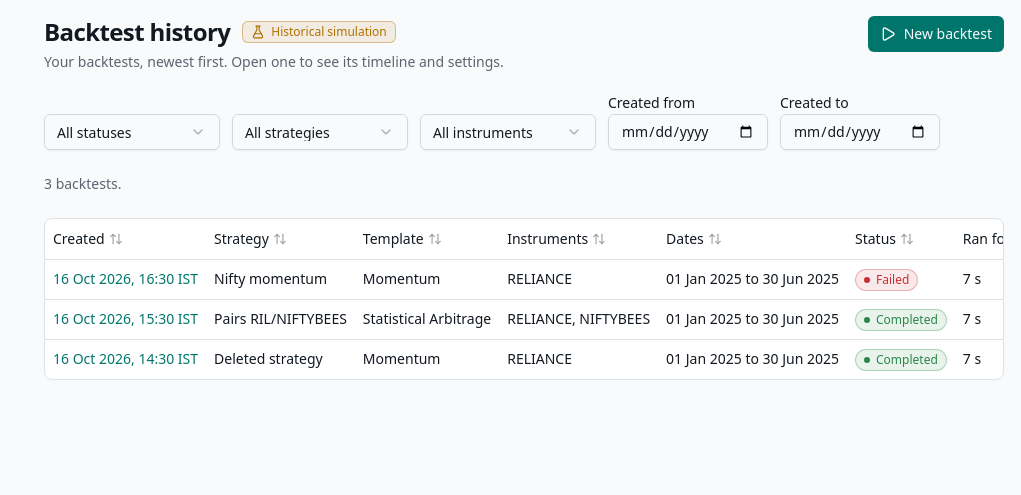
Test: BacktestHistoryPage › sends the filters to the backend and keeps them in the address
Step 1. Select "Failed" in the dropdown named "Status" → (132, 132), box [44,114,220,150]
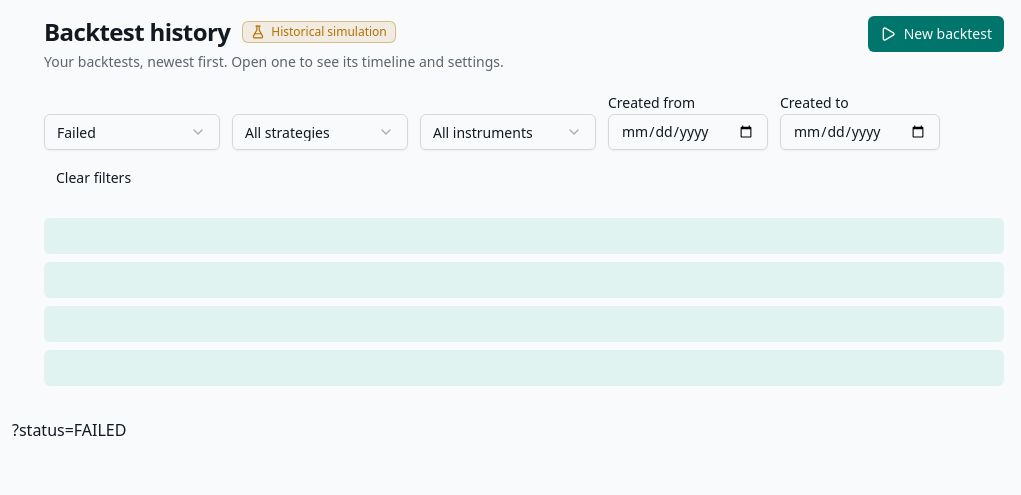
Step 2. Select "Nifty momentum" in the dropdown named "Strategy" → (320, 132), box [232,114,408,150]
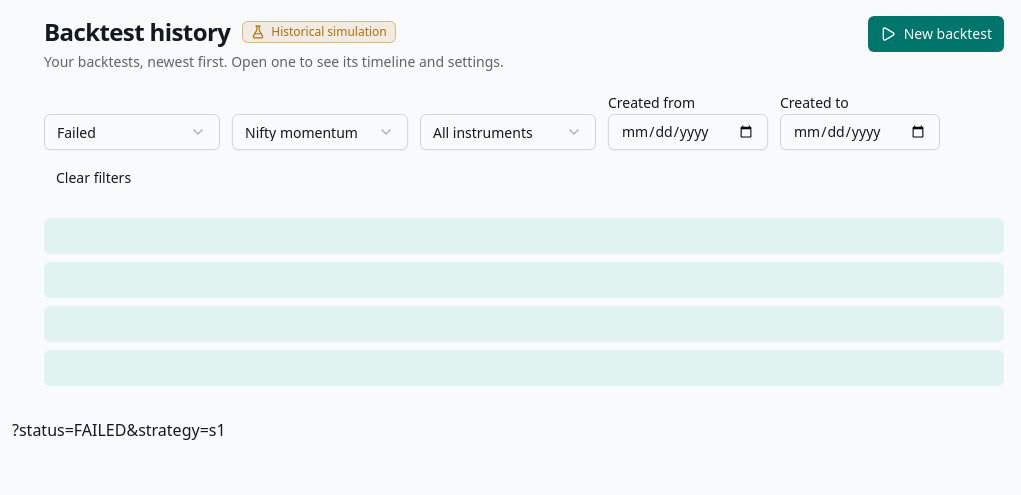
Step 3. Type "2026-10-01" into the date field labelled "Created from" → (688, 132), box [608,114,768,150]
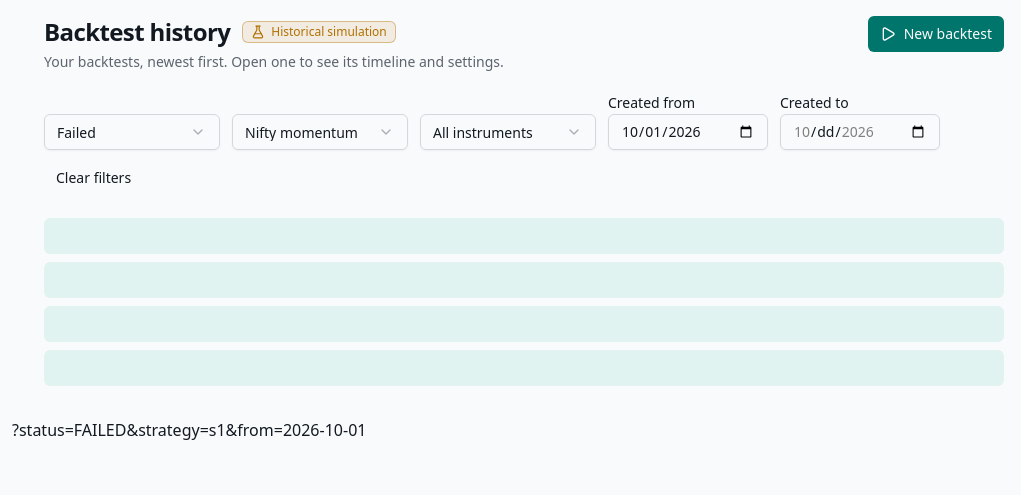
Step 4. Type "2026-10-16" into the date field labelled "Created to" → (860, 132), box [780,114,940,150]
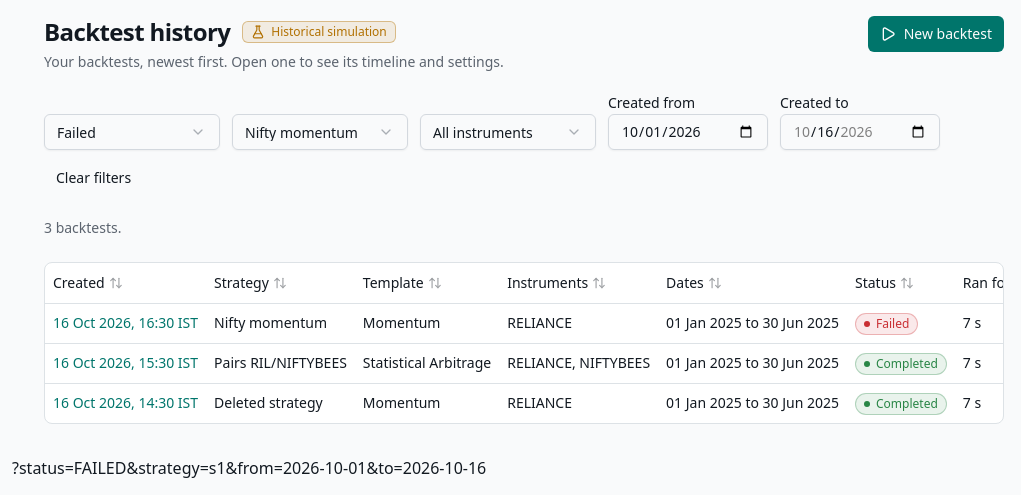
Result: the table named "Backtests" is shown at [45,263,1003,422]
Result: the text named "address" reads "?status=FAILED&strategy=s1&from=2026-10-01&to=2026-10-16" at [12,456,486,478]
